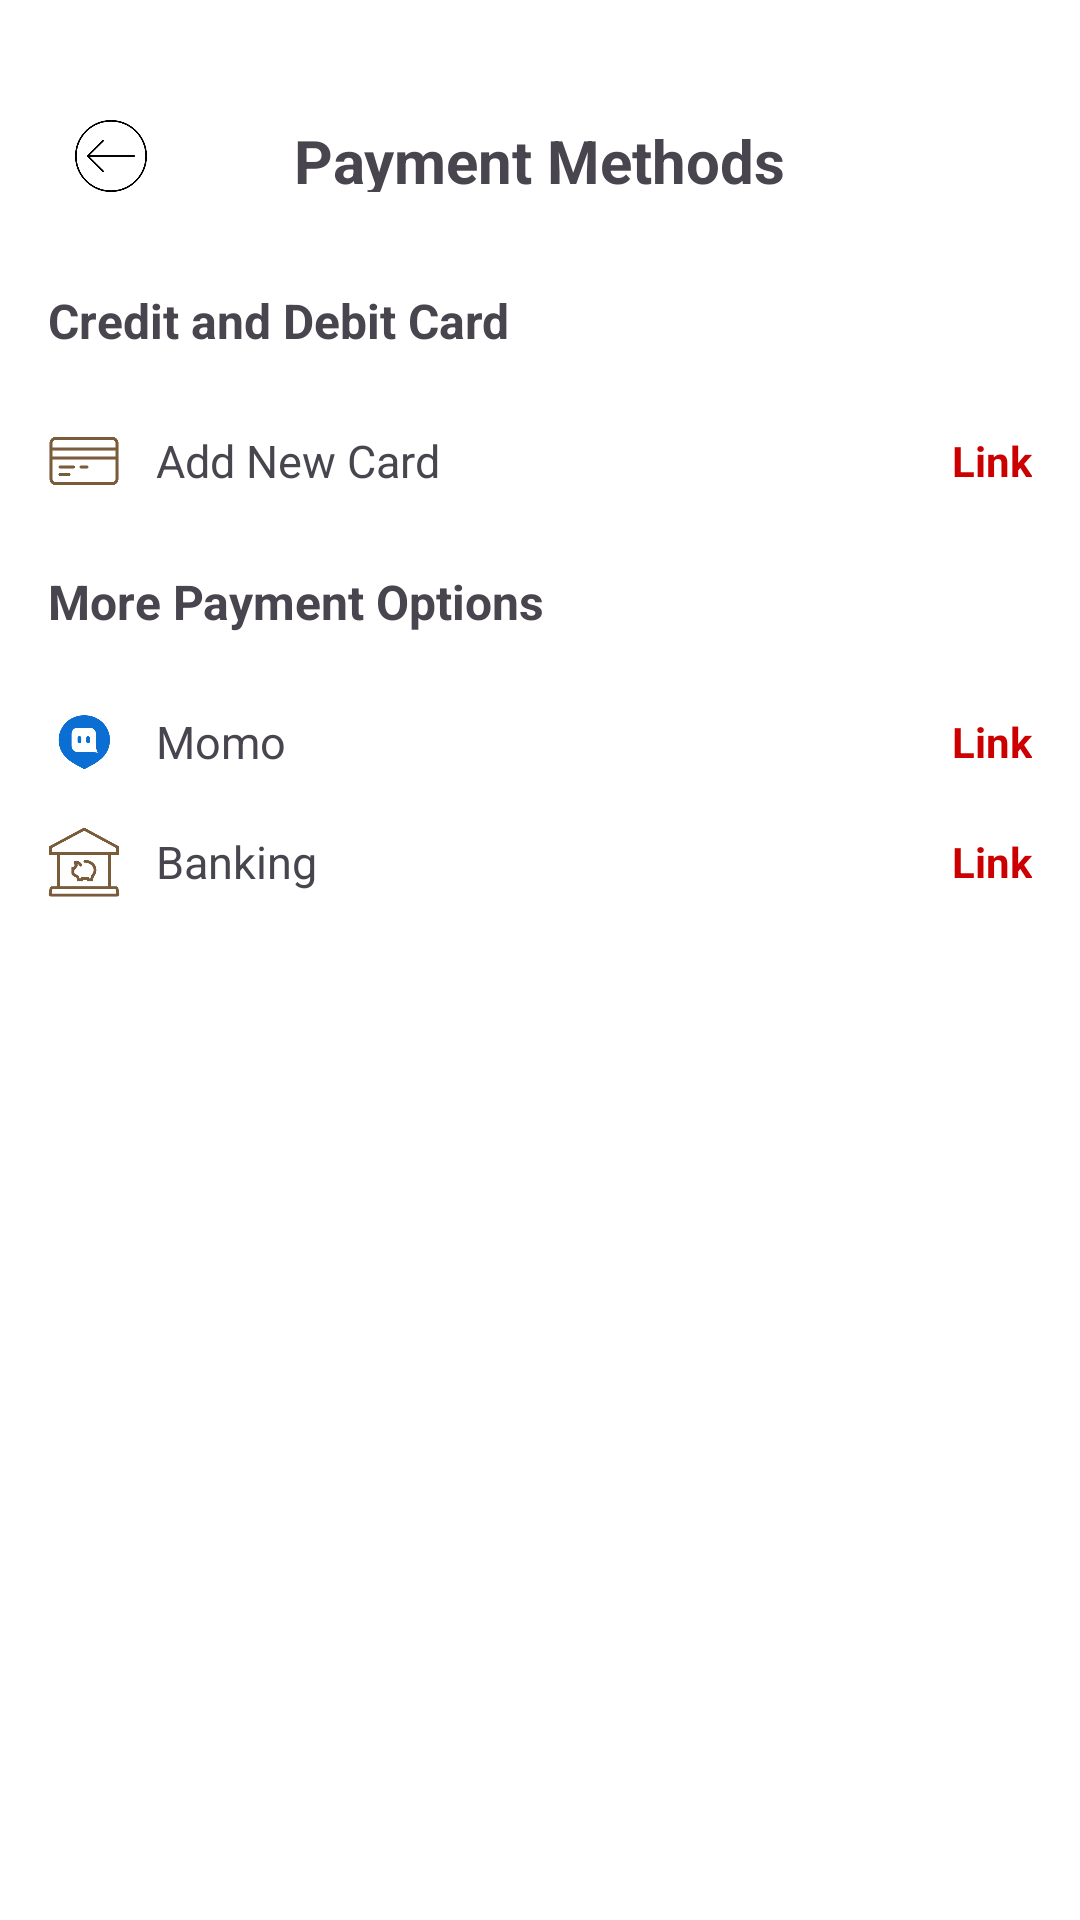

Named icons in this screenshot (1080px×1920px) and their bounding boxes, (x1=x1, y1=y1, x2=x2, y2=y2):
back: (x1=75, y1=120, x2=147, y2=192)
pay: (x1=49, y1=437, x2=119, y2=485)
